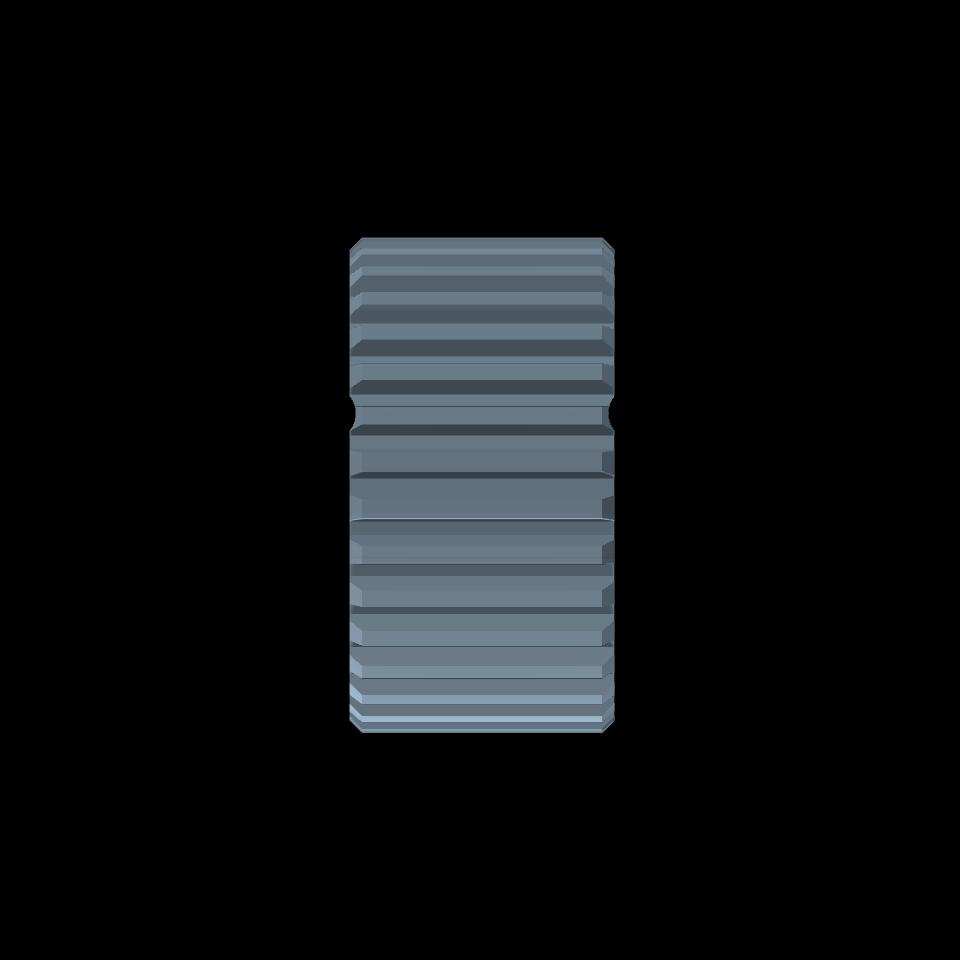Straight: (364, 237, 599, 732)
